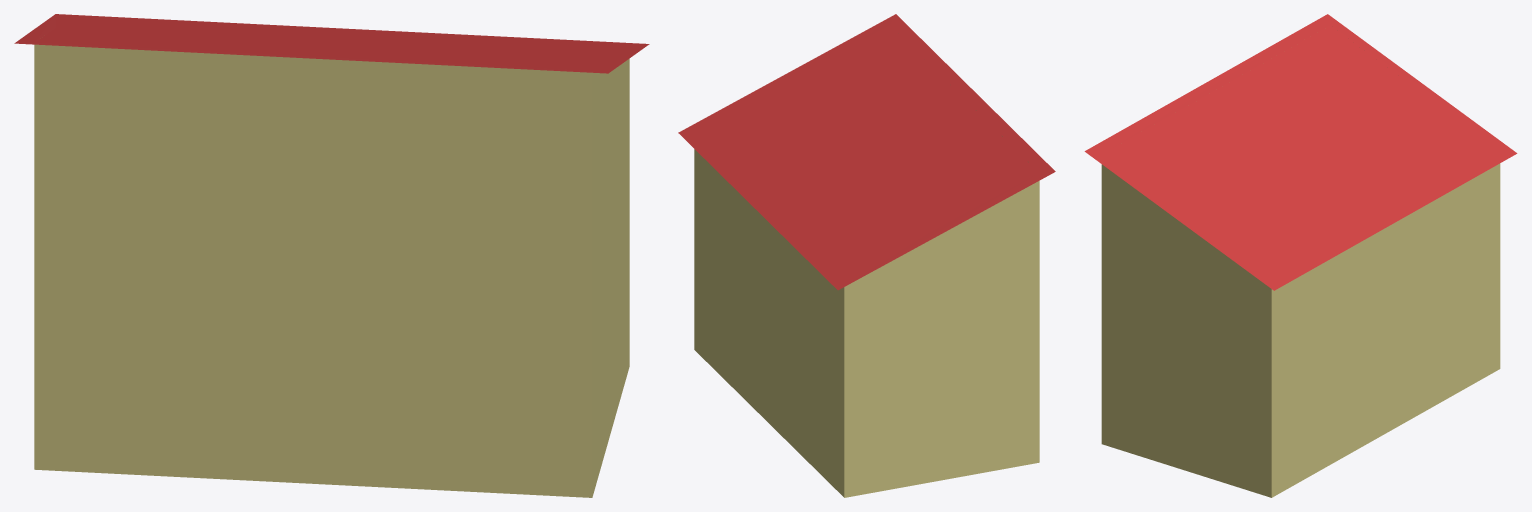
The picture shows the model from 3 angles, left to right: view 1: azimuth 30°, elevation 25°; view 2: azimuth 150°, elevation 25°; view 3: azimuth 270°, elevation 25°; orthographic projection. The views are drawn at different scales.
Size of the model in its own units: 9.44 by 8.75 by 6.55.
